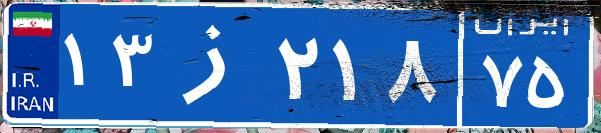1: (330, 28, 385, 110), (57, 26, 110, 107)
2: (273, 28, 330, 110)
3: (110, 28, 158, 105)
5: (525, 38, 570, 115)
7: (475, 38, 525, 113)
8: (385, 28, 445, 110)
ز: (158, 15, 273, 115)
